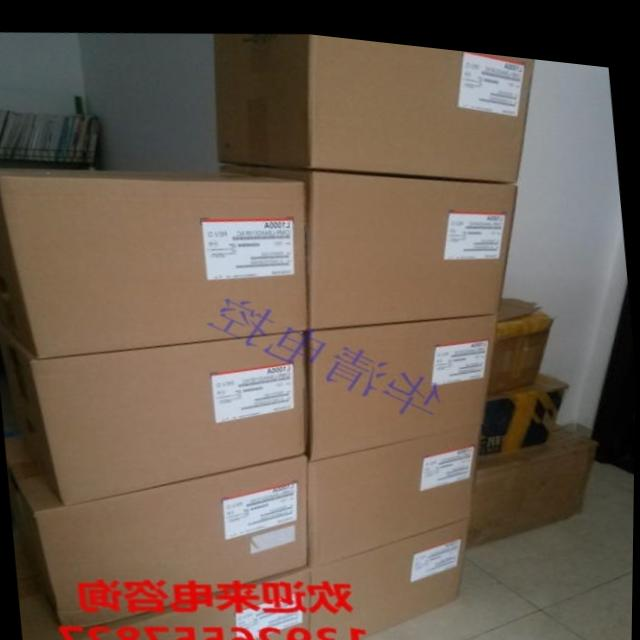box: (5, 433, 310, 627), (0, 165, 309, 356), (5, 321, 308, 502), (215, 156, 516, 323), (214, 27, 536, 170), (306, 303, 498, 457), (310, 411, 482, 556), (18, 556, 308, 640), (307, 507, 471, 640)
